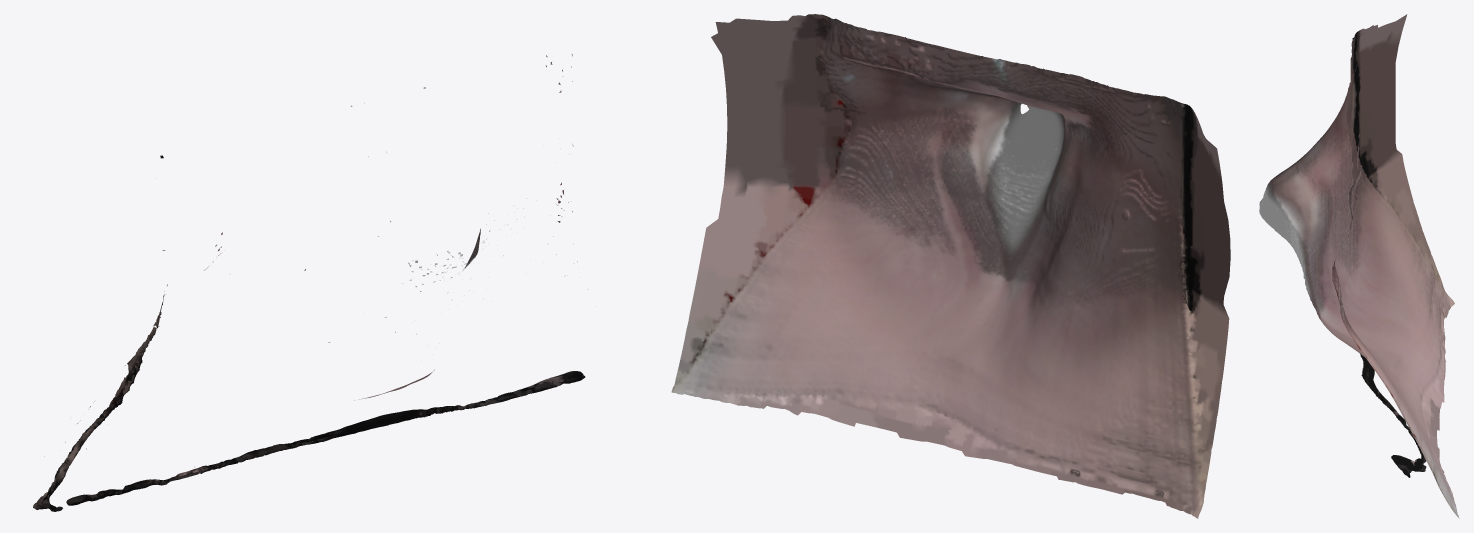
Rendered from vocal (45) - white fade.gltf.
The picture shows the model from 3 angles, left to right: view 1: azimuth 30°, elevation 25°; view 2: azimuth 150°, elevation 25°; view 3: azimuth 270°, elevation 25°; orthographic projection. The views are drawn at different scales.
Bounding box in the file's own units: 0.00154 × 0.000997 × 0.000602.
